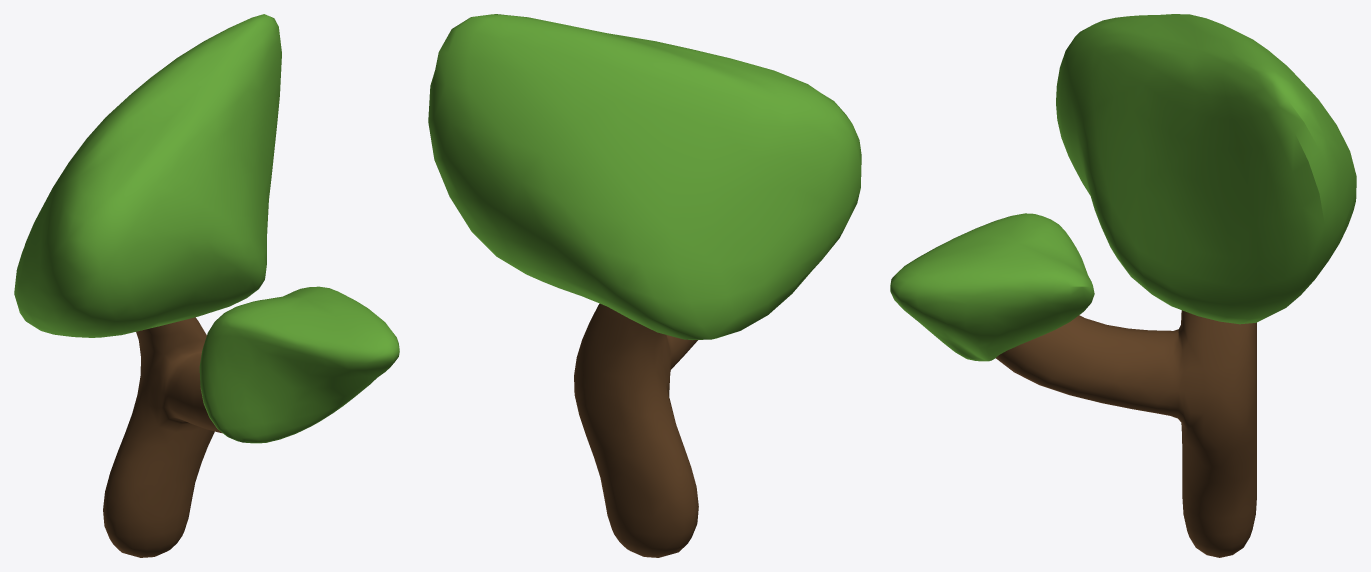
File: Tree 10.fbx
The picture shows the model from 3 angles, left to right: view 1: azimuth 30°, elevation 25°; view 2: azimuth 150°, elevation 25°; view 3: azimuth 270°, elevation 25°; orthographic projection. The views are drawn at different scales.
Parts seen in each view (by area): view 1: Sphere, Sphere_2, Cube; view 2: Sphere, Cube; view 3: Sphere, Cube, Sphere_2.
Boxes of the visible parts, x1,y1,x2,y2 form: Sphere: (14,14,281,337); Sphere_2: (199,286,399,443); Cube: (103,317,222,557); Sphere: (428,14,861,339); Cube: (574,303,698,557); Sphere: (1056,14,1356,324); Cube: (996,310,1256,557); Sphere_2: (890,213,1094,361).
Size of the model in its own units: 227 by 342 by 262.
